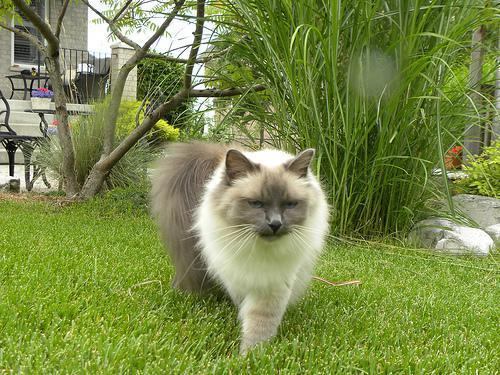cat: (150, 141, 329, 356)
